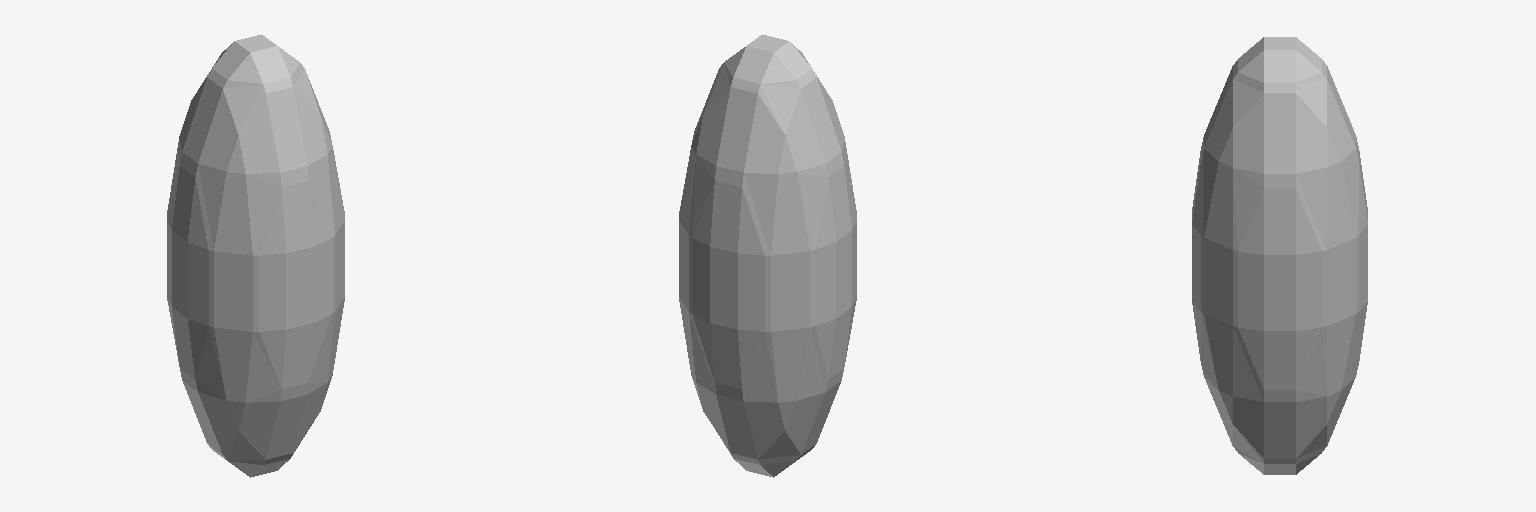
File: player.obj
3 renders of one model, left to right at view 1: azimuth 30°, elevation 25°; view 2: azimuth 150°, elevation 25°; view 3: azimuth 270°, elevation 25°, orthographic.
Parts seen in each view (by area): view 1: Mball; view 2: Mball; view 3: Mball.
Boxes of the visible parts, <box> form: Mball: <box>167,34,344,477</box>; Mball: <box>679,34,856,477</box>; Mball: <box>1192,37,1367,474</box>.
Bounding box in the file's own units: 2.23 × 5.93 × 2.23.